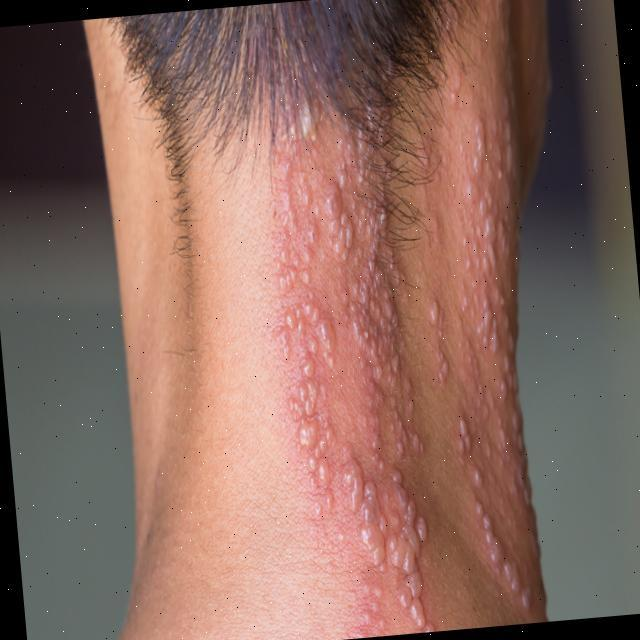Shingles: (264, 96, 431, 640), (429, 103, 524, 638)
